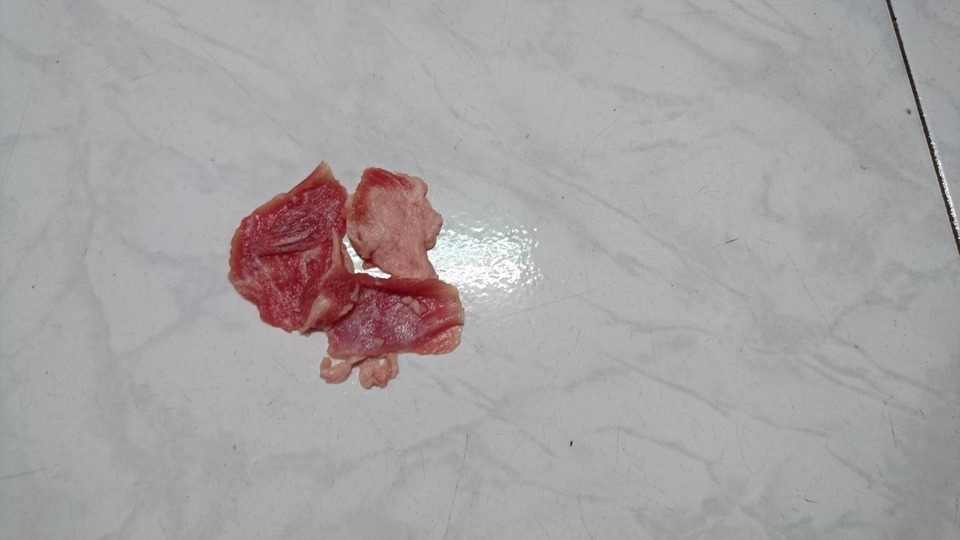restructured meat: (230, 158, 470, 389)
